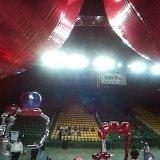Purple_Balloon: (23, 91, 43, 109), (46, 155, 52, 160)
